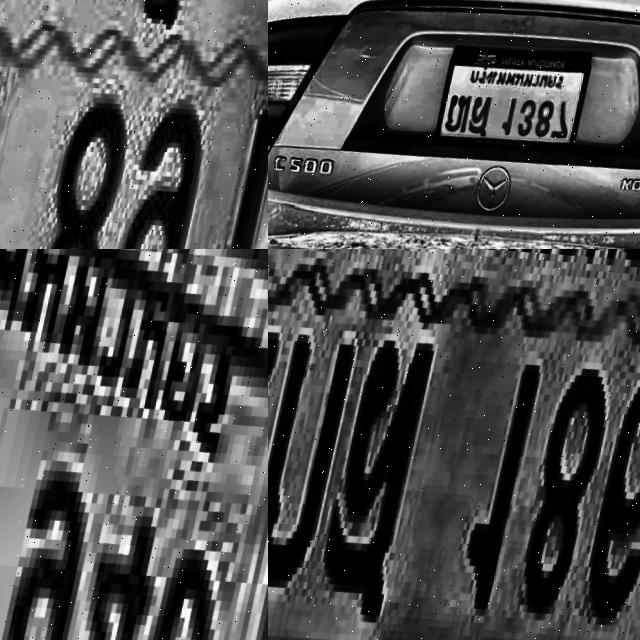license-plate: (268, 249, 640, 640), (0, 249, 268, 640), (0, 0, 268, 249), (435, 43, 601, 165)
